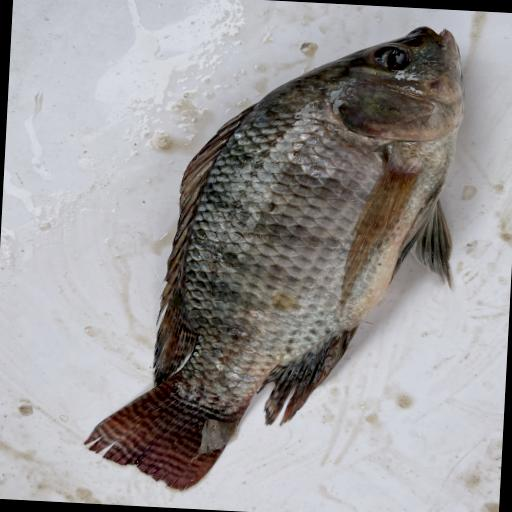Tilapia: (82, 9, 469, 505)
